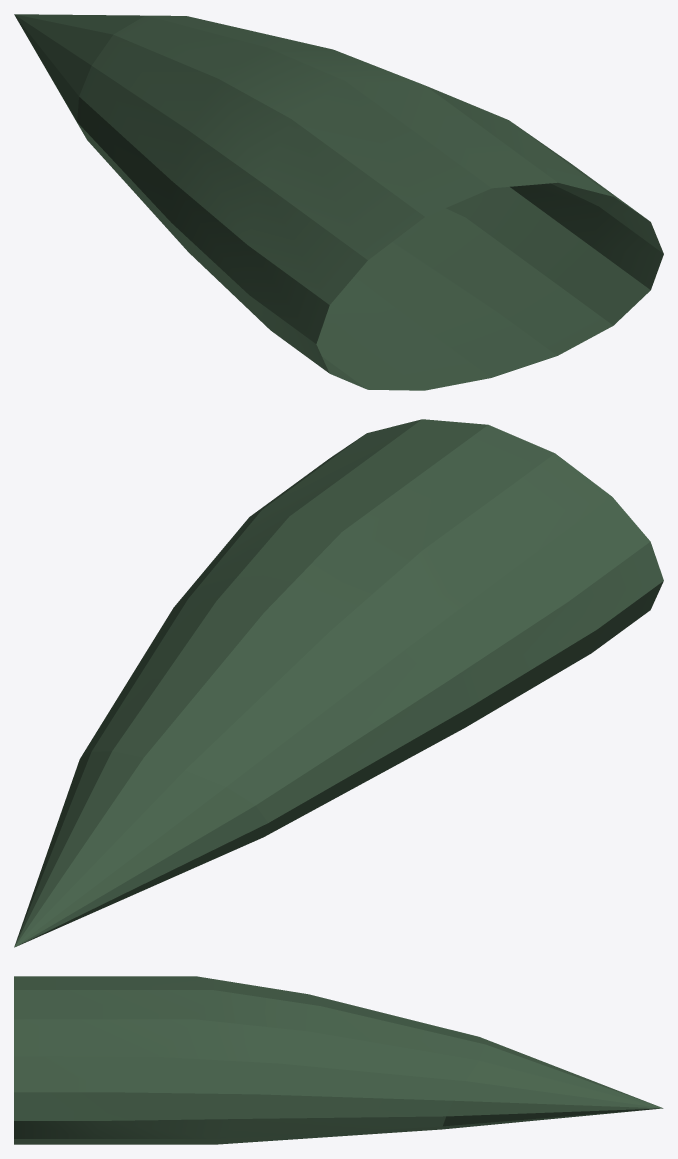
The model's file is snakeBakedAnimationColored_tail.fbx.
3 renders of one model, top to bottom at view 1: azimuth 30°, elevation 25°; view 2: azimuth 150°, elevation 25°; view 3: azimuth 270°, elevation 25°, orthographic. The views are drawn at different scales.
Visible parts, largest first — view 1: snakeTail; view 2: snakeTail; view 3: snakeTail.
Part boxes in pixels (x1,y1,x2,y2): snakeTail: (14,14,663,390); snakeTail: (14,419,663,947); snakeTail: (14,976,663,1144).
Size of the model in its own units: 0.6247 by 0.3255 by 1.48.
